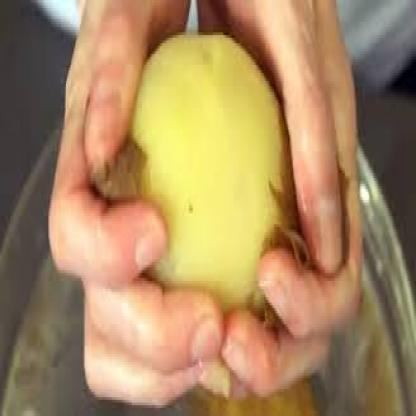Disposable tableware: (90, 13, 350, 392)
